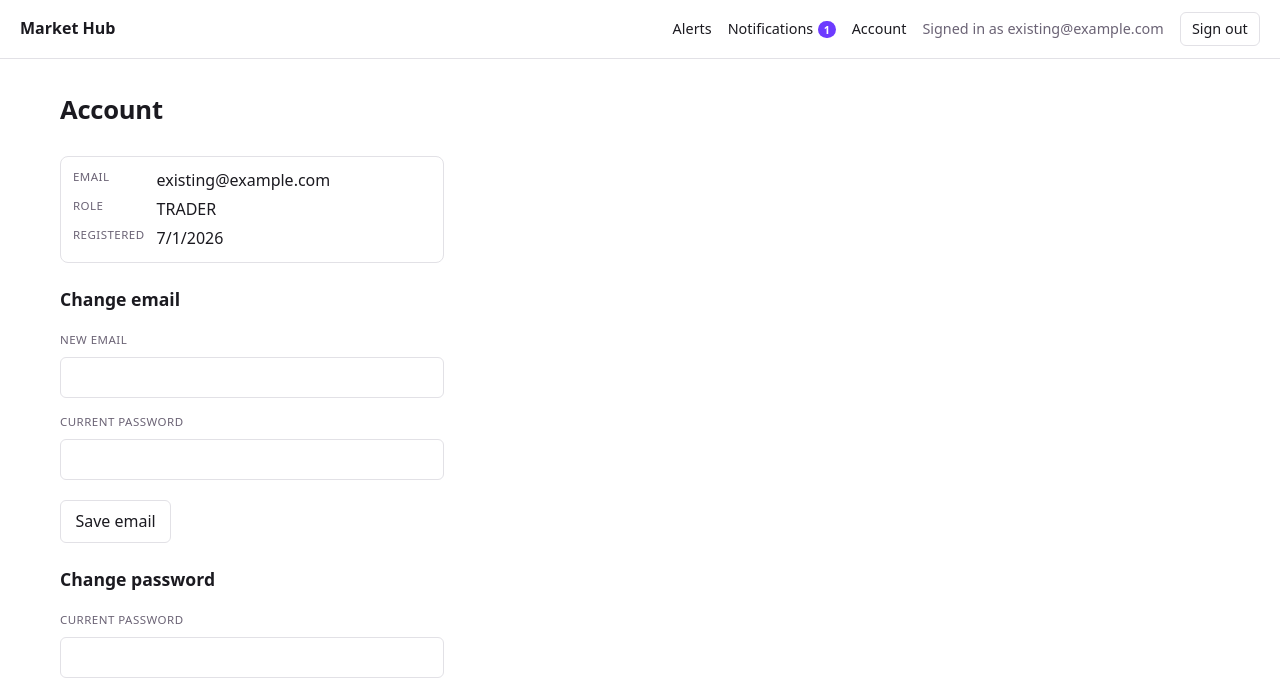
it: AccountPage › rejects an email change with the wrong current password
This screenshot has width=1280, height=687.
expect the text "existing@example.com" is shown: met, box x1=157 y1=169 x2=330 y2=191
Type "irrelevant@example.com" into the field labelled "New email". click: [252, 378]
box: x1=60 y1=357 x2=444 y2=398
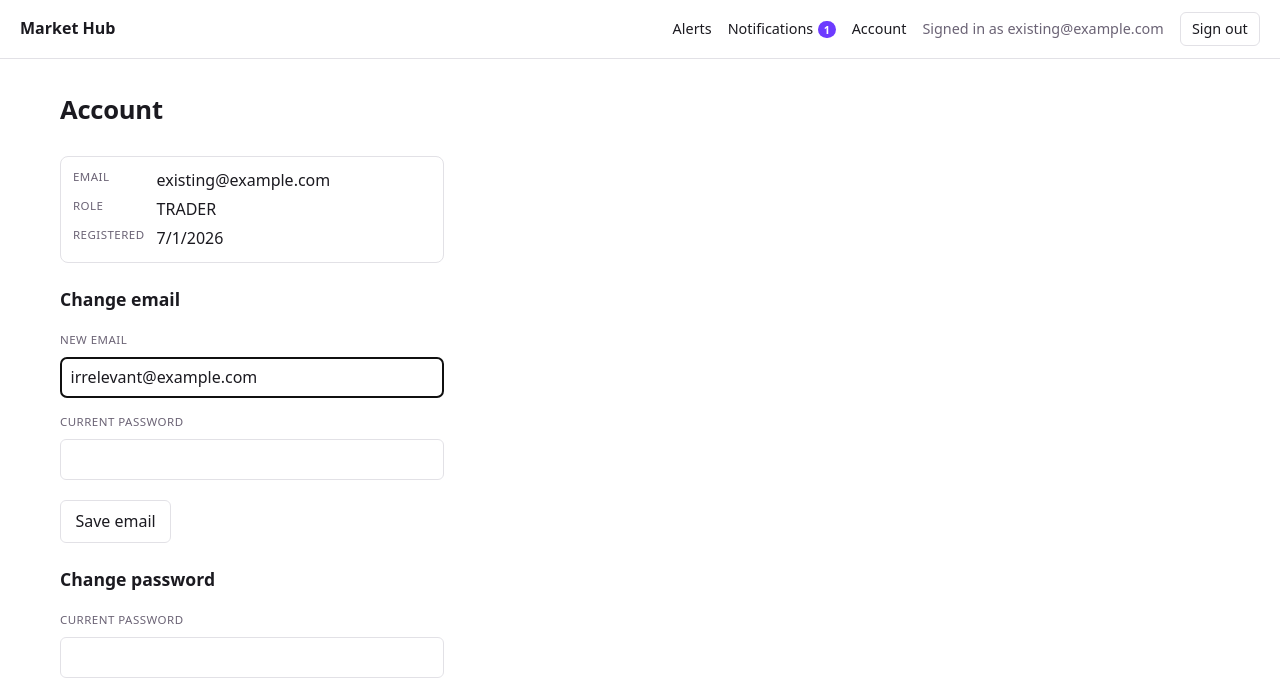
Type "wrong-password" into the password field labelled "Current password" below "New email". click: [252, 460]
box: x1=60 y1=439 x2=444 y2=480
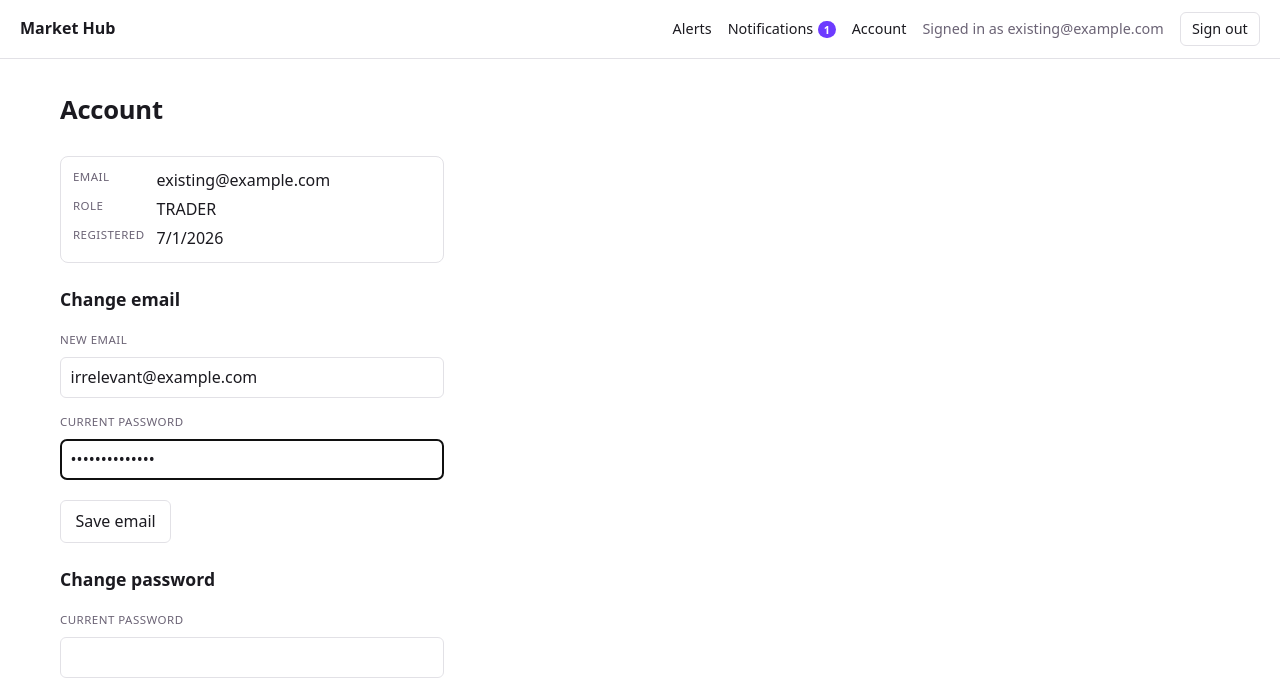
Click the button "Save email". click: [116, 522]
box: x1=60 y1=500 x2=171 y2=543
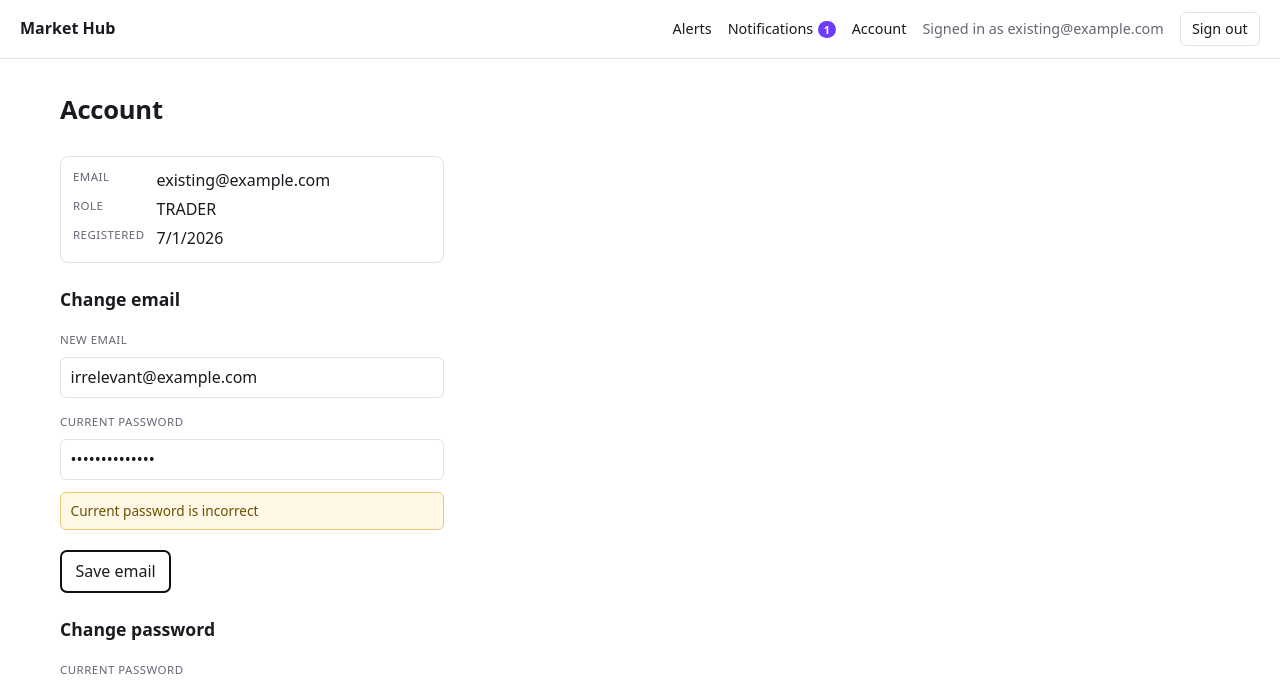
expect the message reads "Current password is incorrect": met, box x1=71 y1=501 x2=258 y2=520
